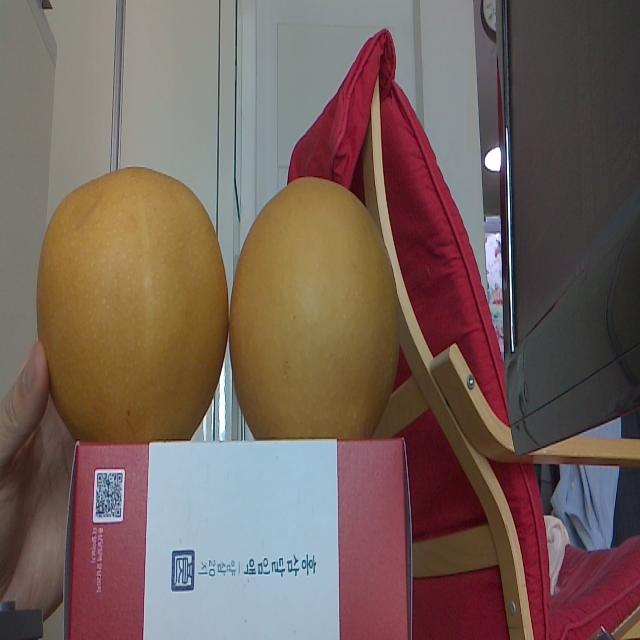pear: (36, 167, 228, 444), (230, 180, 398, 442)
